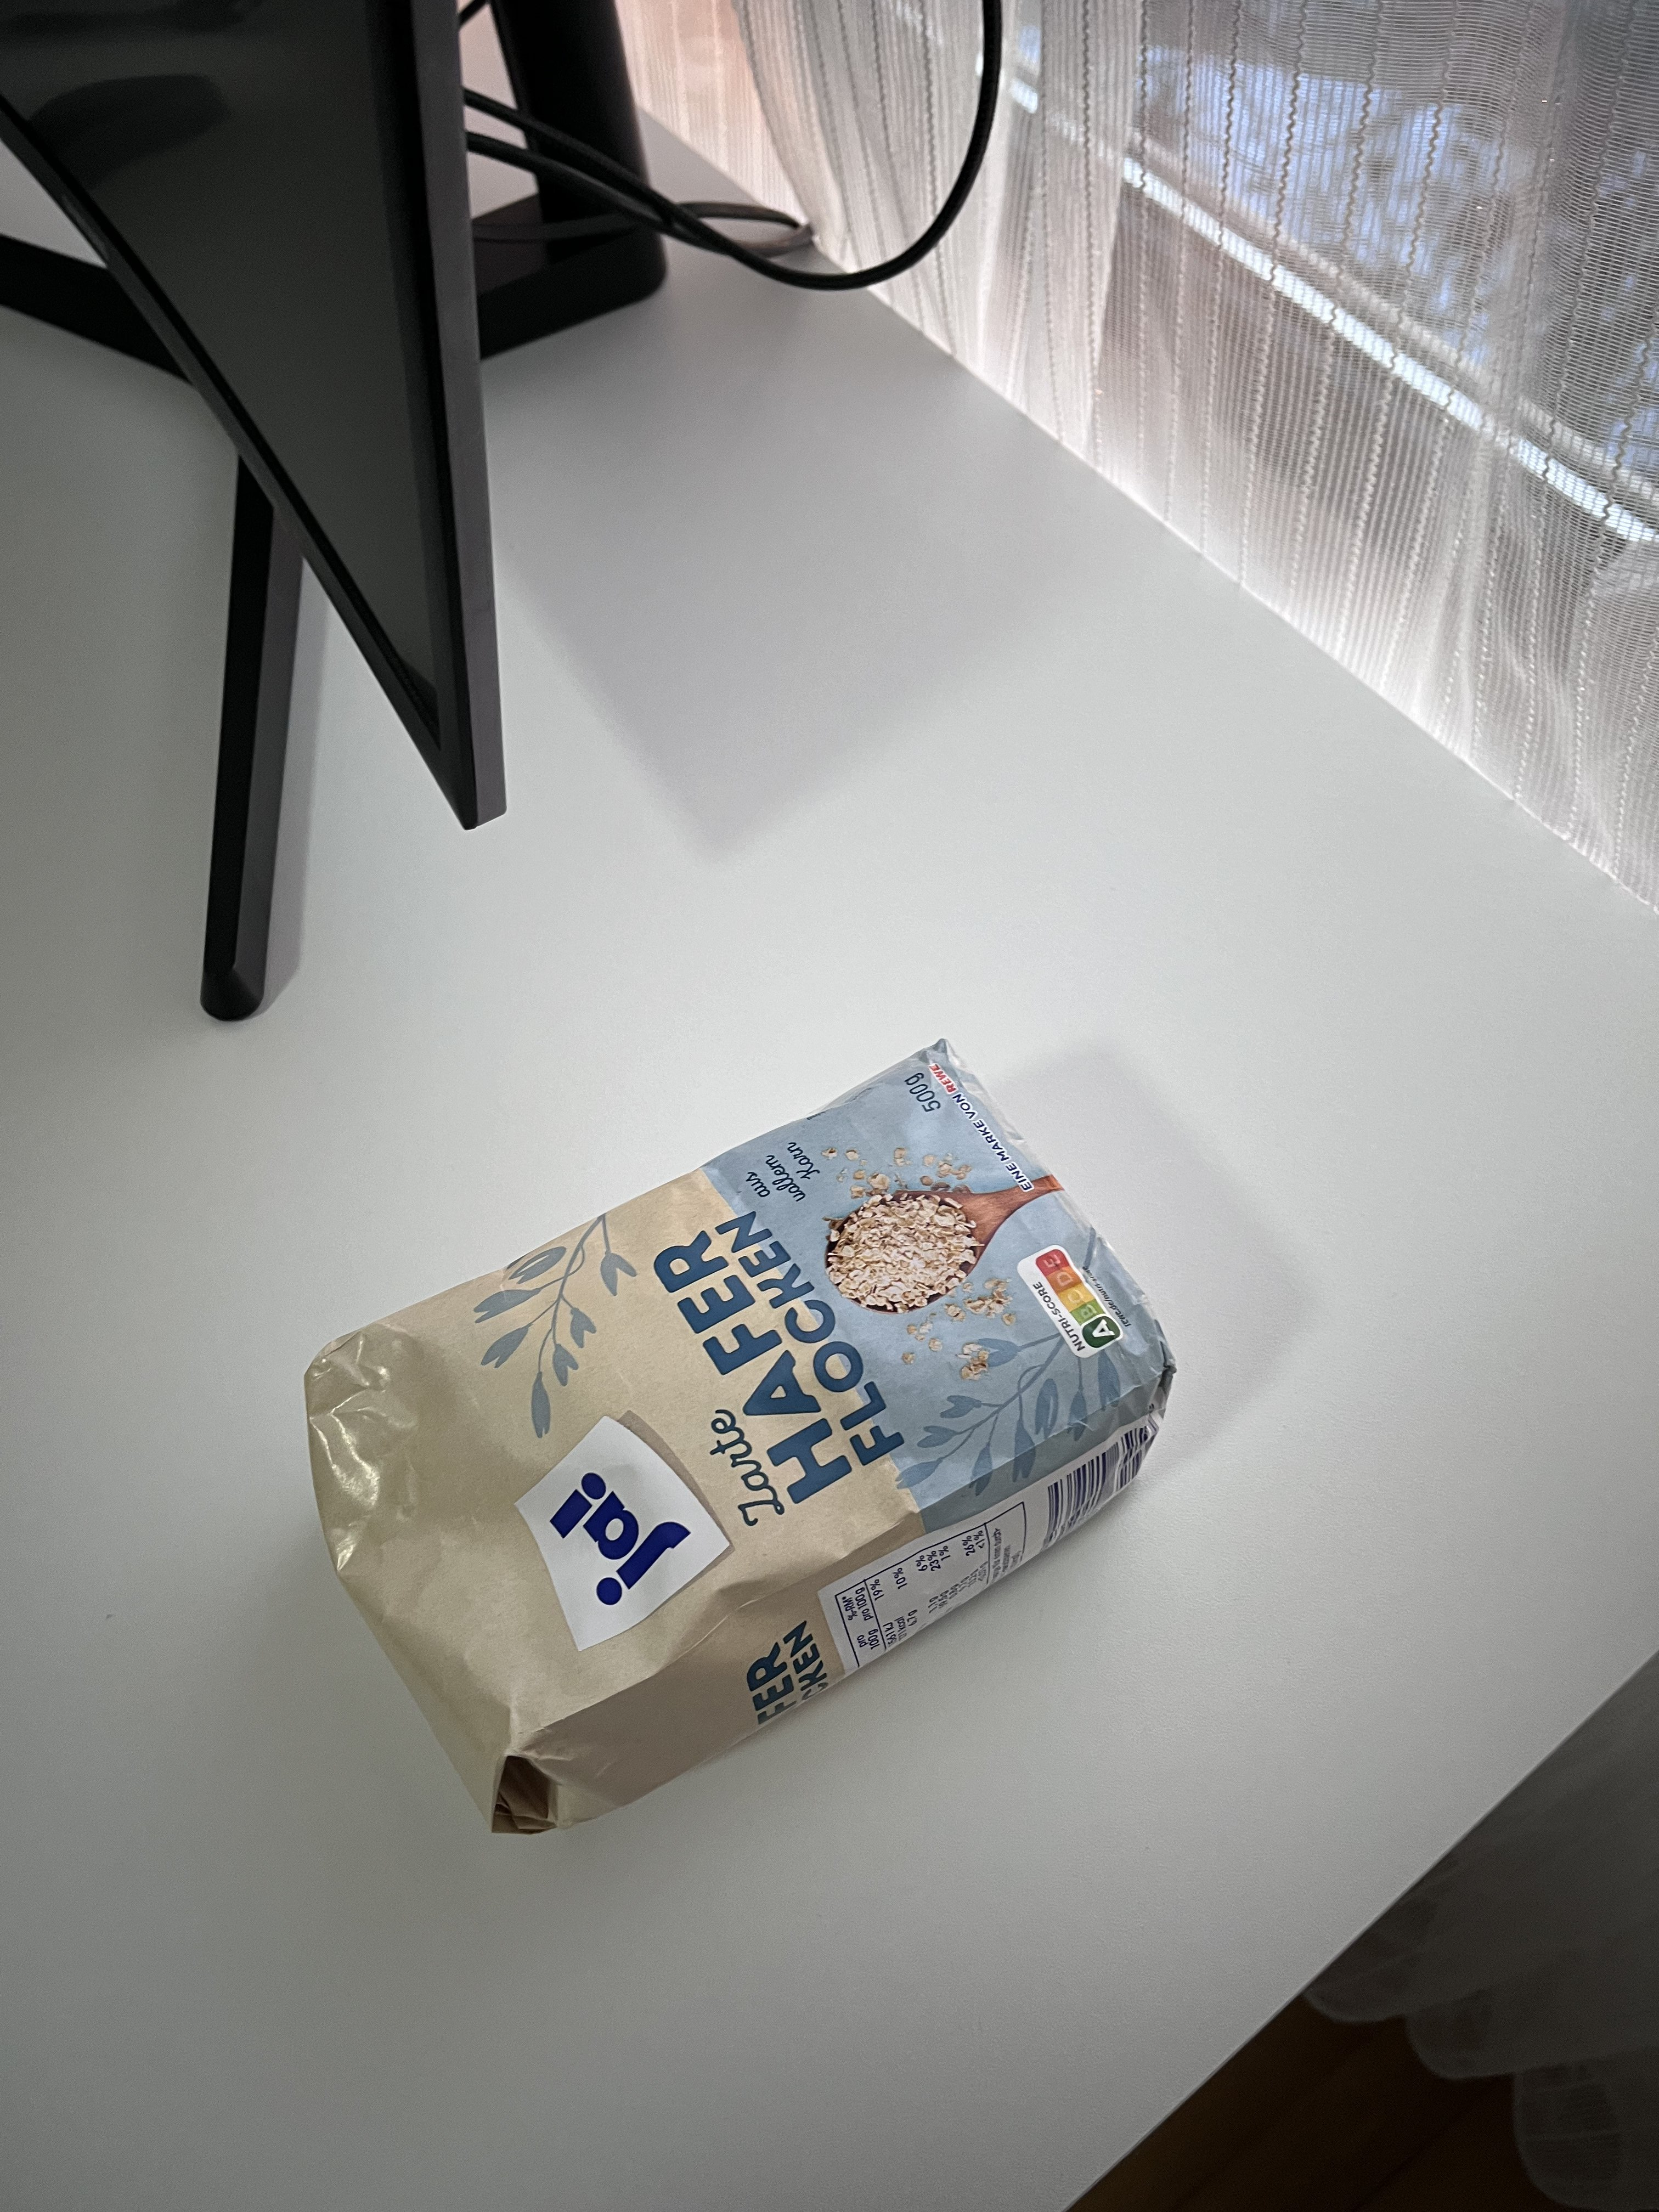haferflocken_ja: (303, 1042, 1180, 1832)
